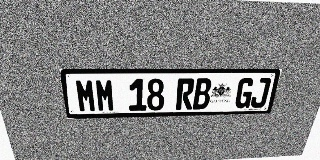1: (128, 79, 146, 111)
8: (147, 78, 165, 111)
B: (192, 78, 212, 109)
G: (234, 78, 255, 108)
J: (249, 78, 272, 108)
M: (74, 79, 97, 112), (94, 79, 115, 112)
R: (176, 78, 195, 110)
